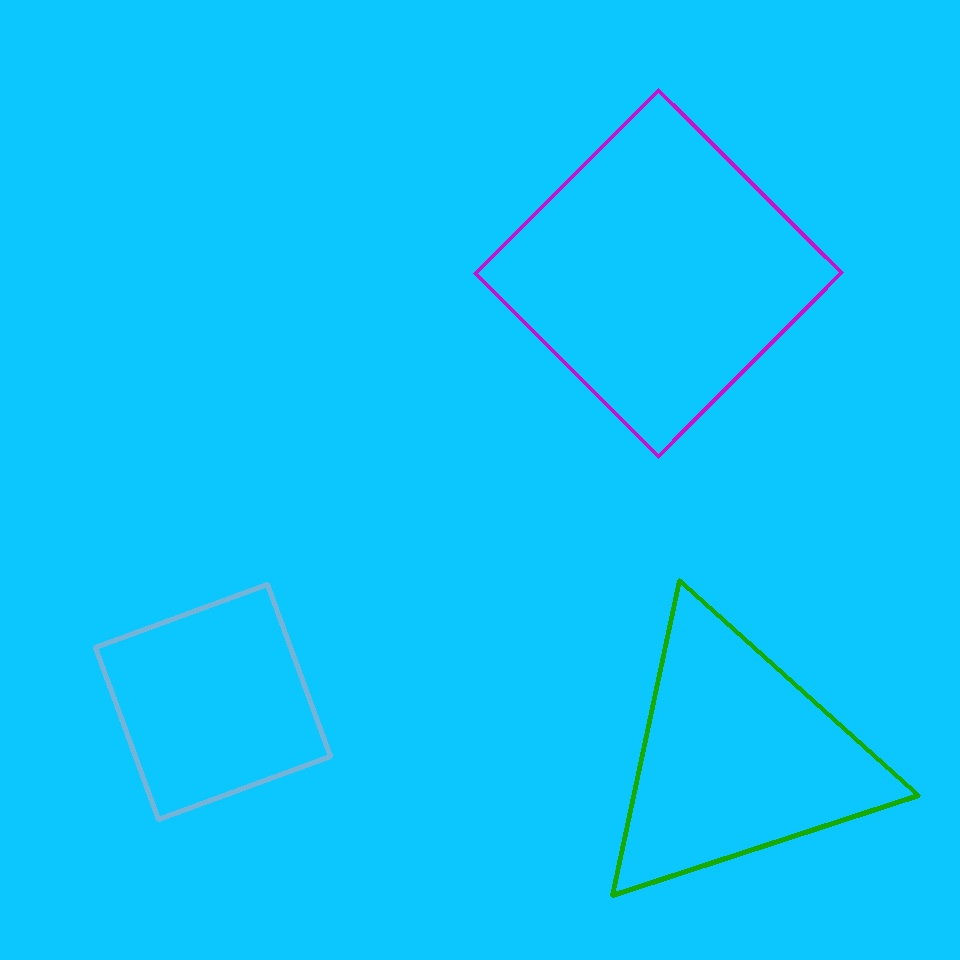circle: (584, 600, 890, 914)
square: (475, 90, 841, 456), (96, 584, 330, 820)
